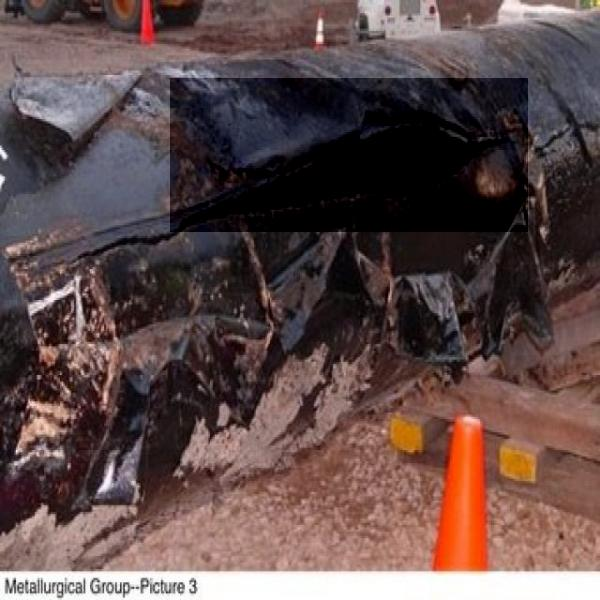leak: (170, 78, 528, 232)
